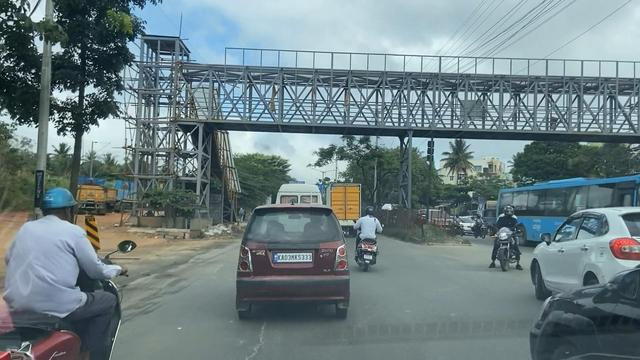LMV: (237, 203, 346, 315), (355, 205, 379, 267)
RoadDamages: (132, 237, 234, 306), (231, 323, 272, 357)
